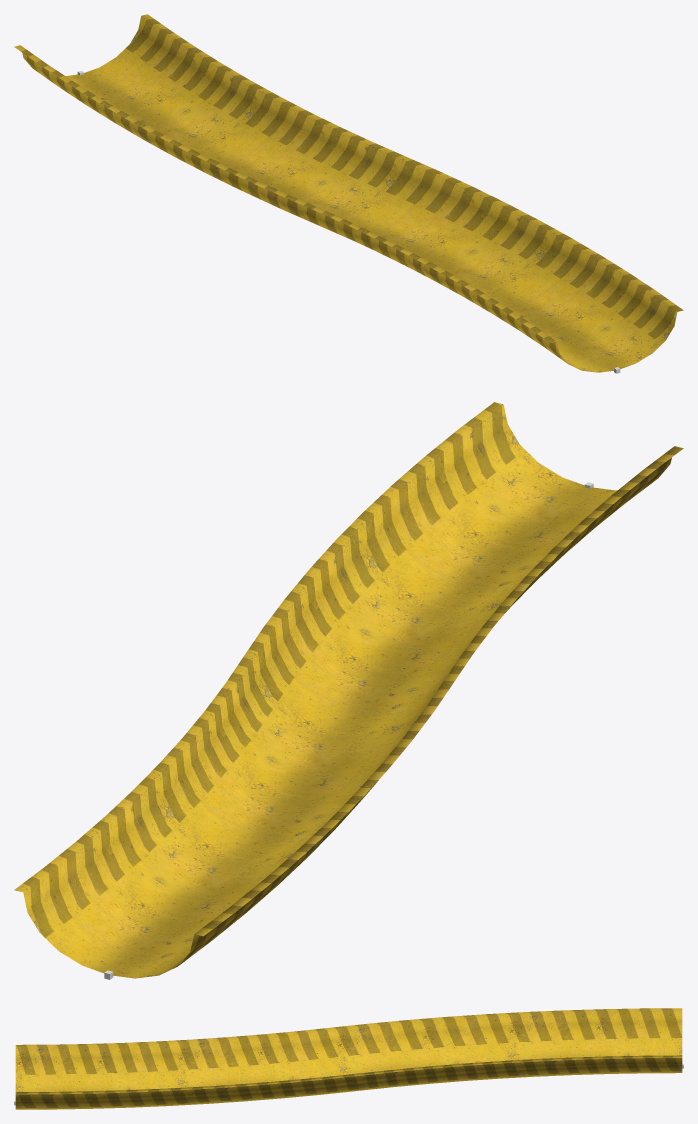
Rendered from roadShift.left1.fbx.
3 renders of one model, top to bottom at view 1: azimuth 30°, elevation 25°; view 2: azimuth 150°, elevation 25°; view 3: azimuth 270°, elevation 25°, orthographic. The views are drawn at different scales.
Parts seen in each view (by area): view 1: MESH roadShift.left1; view 2: MESH roadShift.left1; view 3: MESH roadShift.left1.
Boxes of the visible parts, x1,y1,x2,y2 form: MESH roadShift.left1: (14, 14, 683, 372); MESH roadShift.left1: (14, 402, 683, 978); MESH roadShift.left1: (15, 1008, 682, 1109).
Size of what is drawn, in the model's own units: 2943 by 553 by 9650.
